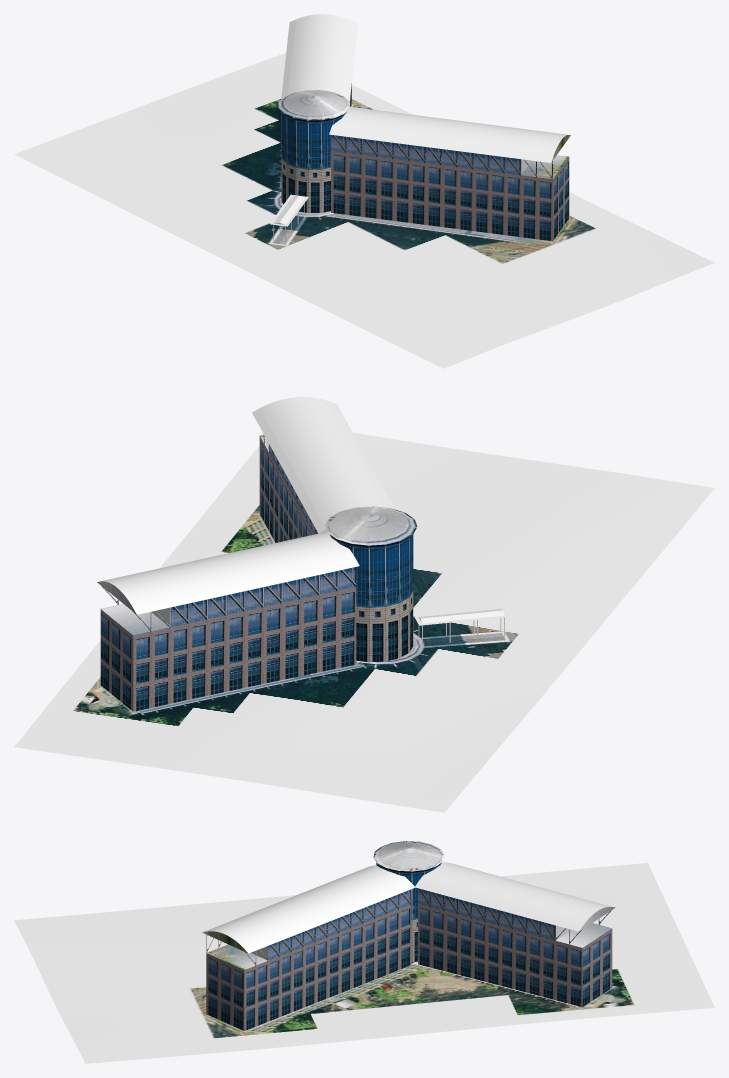
The model's file is Atlantic-Hotel-Bremen.fbx.
The picture shows the model from 3 angles, top to bottom: view 1: azimuth 30°, elevation 25°; view 2: azimuth 150°, elevation 25°; view 3: azimuth 270°, elevation 25°; orthographic projection. The views are drawn at different scales.
Visible parts, largest first — view 1: Google_Earth_Terrain, Model; view 2: Google_Earth_Terrain, Model; view 3: Google_Earth_Terrain, Model.
Boxes of the visible parts, <box> form: Google_Earth_Terrain: <box>14,53,714,368</box>; Model: <box>270,14,570,242</box>; Google_Earth_Terrain: <box>14,432,714,812</box>; Model: <box>97,397,509,711</box>; Google_Earth_Terrain: <box>14,863,714,1063</box>; Model: <box>202,841,614,1031</box>.
Bounding box in the file's own units: 151 × 37.44 × 223.
